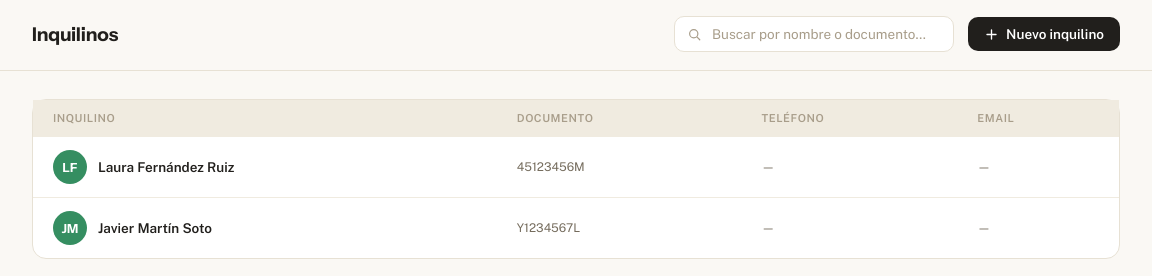
Scenario: InquilinosListado › permite buscar por documento
Expected: the text "Laura Fernández Ruiz" is shown, [98, 159, 234, 175]
Type "45123456" into the field with placeholder "Buscar por nombre o documento…".
click(826, 34); type("45123456")  # box [710, 25, 941, 43]
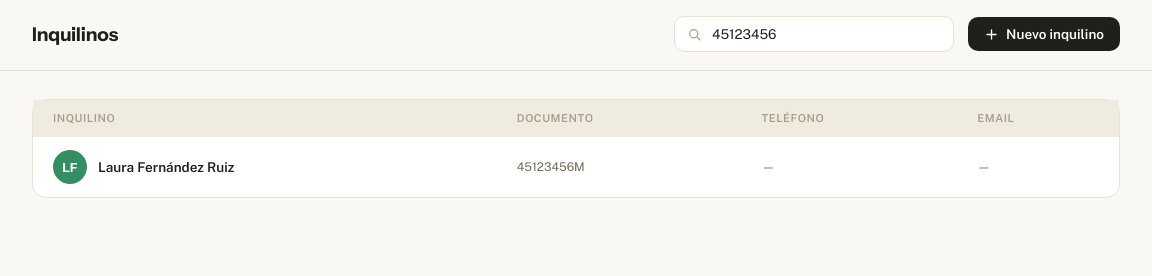
Expected: the text "Laura Fernández Ruiz" is shown, [98, 159, 234, 175]
Expected: the text "Javier Martín Soto" is gone
